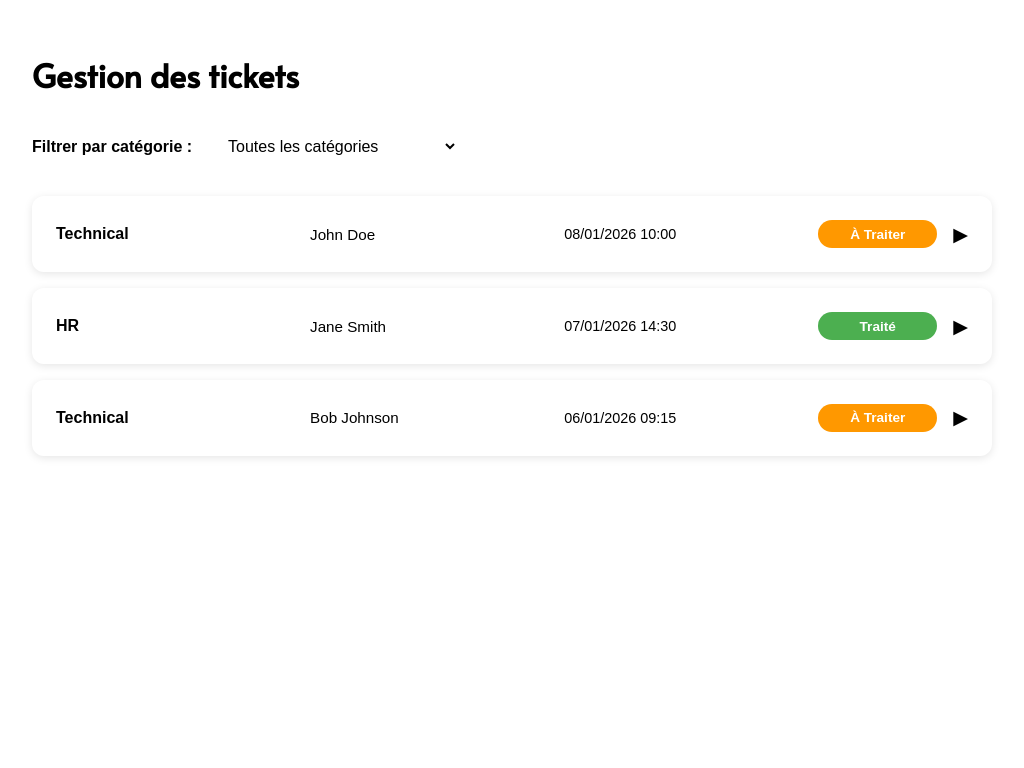
Test: TicketsManagement Component › Collapses ticket when header is clicked again
The width and height of the screenshot is (1024, 768).
Click the element with test id "ticket-header-1" at (92, 234), box x1=56 y1=220 x2=968 y2=248
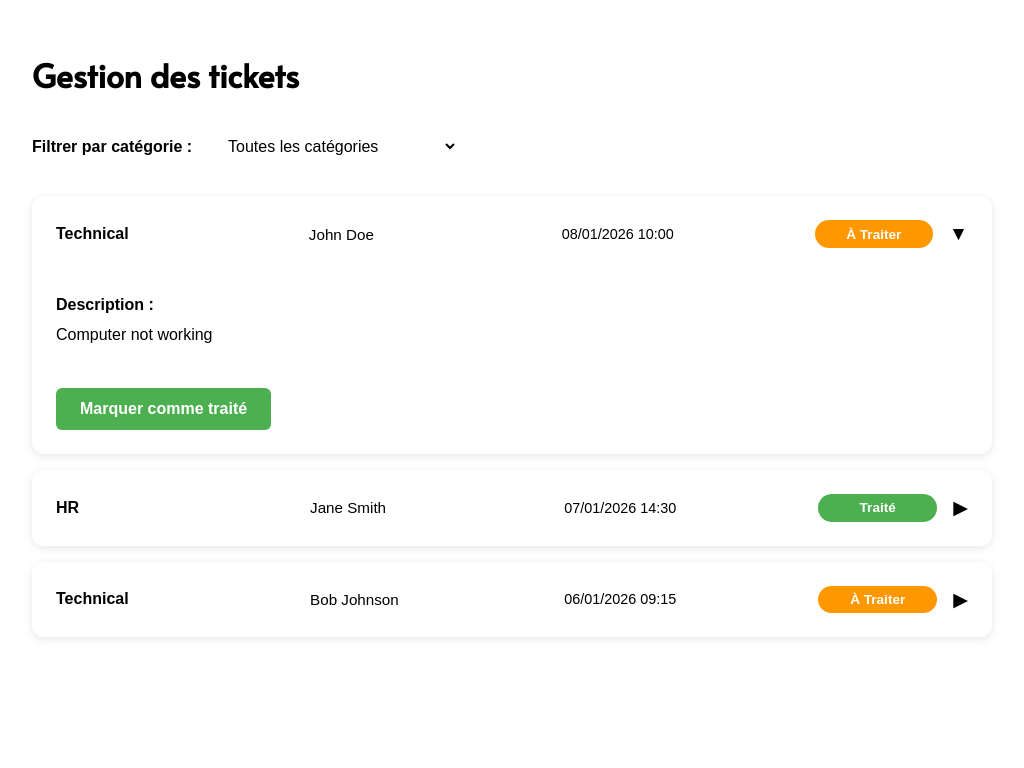
Result: the element with test id "ticket-details-1" is shown at x1=56 y1=296 x2=271 y2=430
Click the element with test id "ticket-header-1" at (92, 234), box x1=56 y1=220 x2=968 y2=248
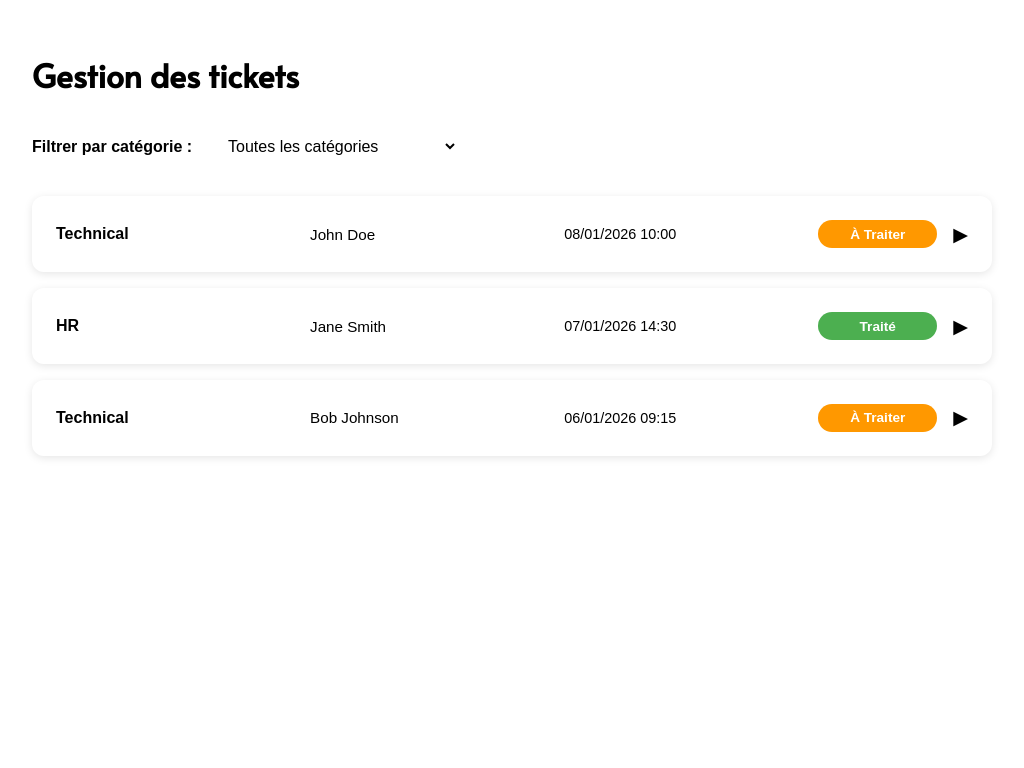
Result: the element with test id "ticket-details-1" is gone
